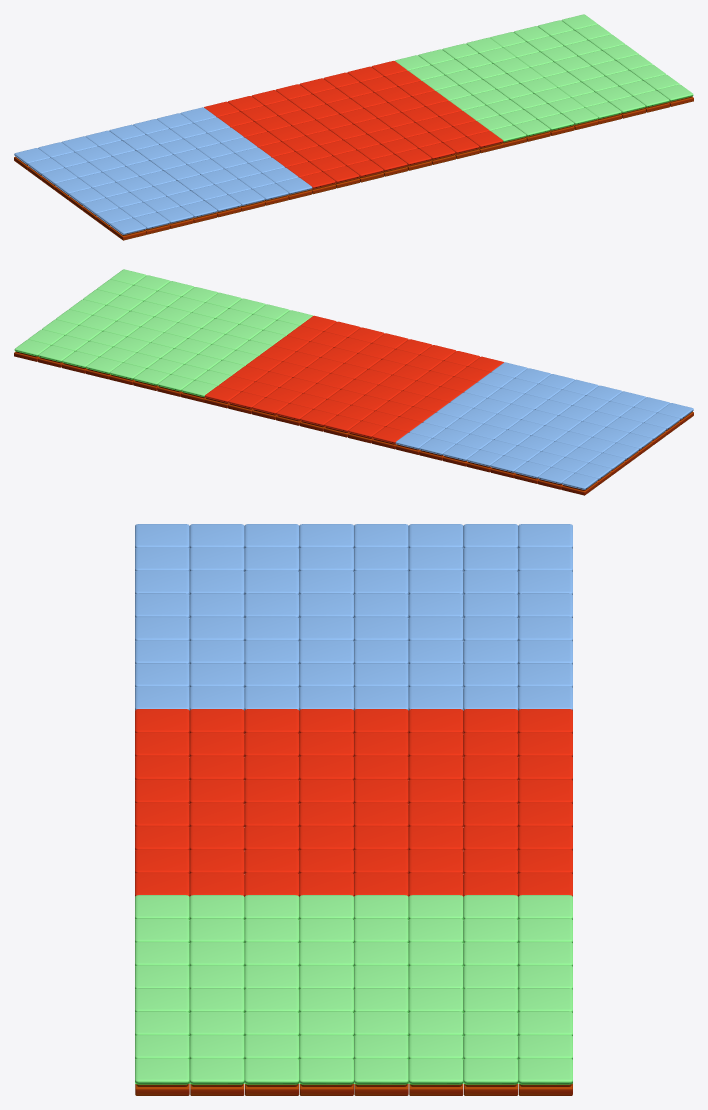
File: floorpad.glb
The picture shows the model from 3 angles, top to bottom: view 1: azimuth 30°, elevation 25°; view 2: azimuth 150°, elevation 25°; view 3: azimuth 270°, elevation 25°; orthographic projection. The views are drawn at different scales.
Visible parts, largest first — view 1: Floorpad Group; view 2: Floorpad Group; view 3: Floorpad Group.
Boxes of the visible parts, x1=… form: Floorpad Group: x1=14, y1=14, x2=693, y2=240; Floorpad Group: x1=14, y1=269, x2=693, y2=495; Floorpad Group: x1=135, y1=524, x2=572, y2=1095.
Size of the model in its own units: 26.62 by 0.3474 by 8.84.
Materials: 1 (1 with a texture image).
